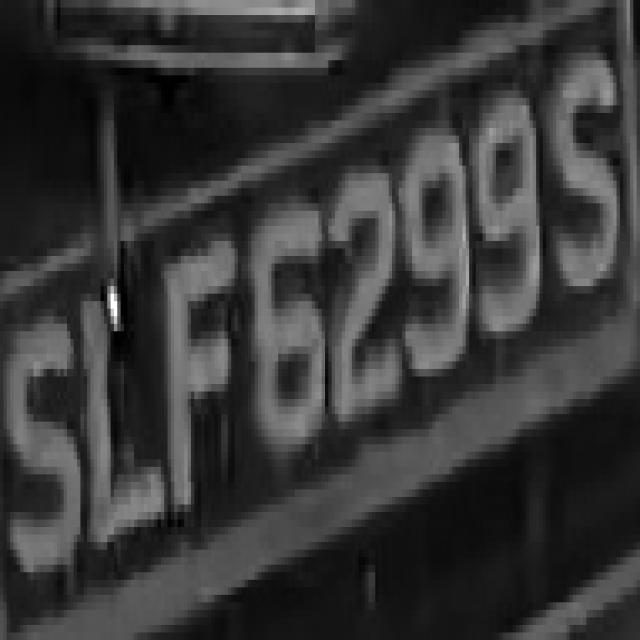2: (312, 151, 408, 444)
6: (244, 173, 328, 467)
9: (382, 120, 476, 377), (462, 83, 543, 369)
F: (154, 226, 245, 542)
L: (74, 264, 171, 550)
S: (7, 294, 87, 602), (546, 45, 627, 309)
